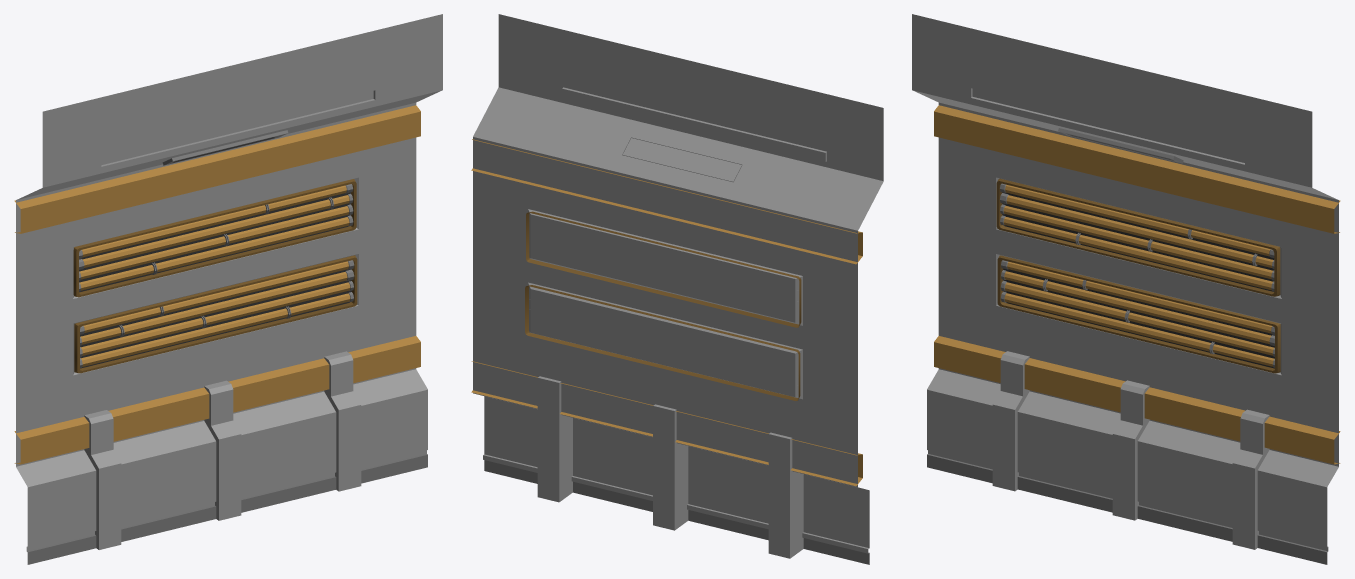
The model's file is Wall_5.fbx.
3 renders of one model, left to right at view 1: azimuth 30°, elevation 25°; view 2: azimuth 150°, elevation 25°; view 3: azimuth 330°, elevation 25°, orthographic. The views are drawn at different scales.
Visible parts, largest first — view 1: Wall_5; view 2: Wall_5; view 3: Wall_5.
Part boxes in pixels (x1,y1,x2,y2): Wall_5: (14,14,442,564); Wall_5: (471,14,883,564); Wall_5: (912,14,1340,564).
Size of the model in its own units: 400 by 443 by 52.79.
